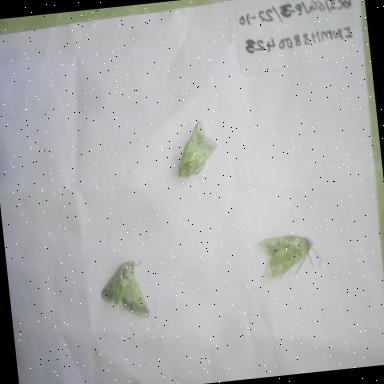abw: (91, 253, 157, 330), (254, 226, 326, 290), (167, 115, 233, 184)
